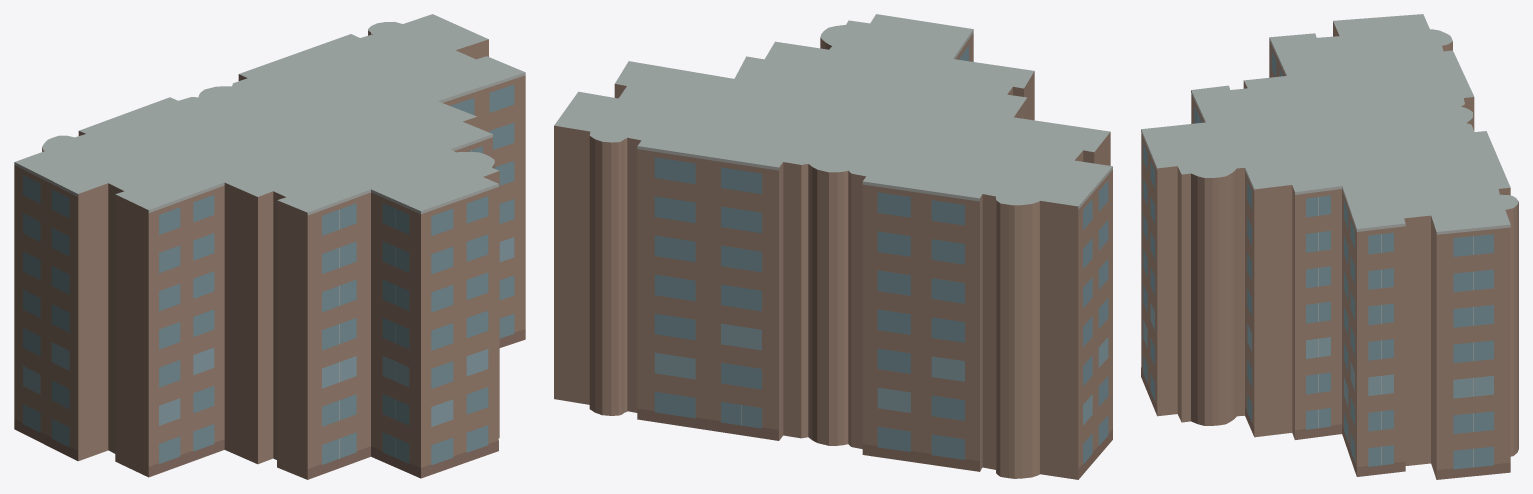
Rendered from survey-upis-32862904.glb.
The picture shows the model from 3 angles, left to right: view 1: azimuth 30°, elevation 25°; view 2: azimuth 150°, elevation 25°; view 3: azimuth 270°, elevation 25°; orthographic projection. The views are drawn at different scales.
Visible parts, largest first — view 1: survey-upis-32862904.tmp; view 2: survey-upis-32862904.tmp; view 3: survey-upis-32862904.tmp.
Boxes of the visible parts, <box> form: survey-upis-32862904.tmp: <box>14,14,525,479</box>; survey-upis-32862904.tmp: <box>554,14,1112,479</box>; survey-upis-32862904.tmp: <box>1141,14,1518,479</box>.
Size of the model in its own units: 40.21 by 21.32 by 29.44.
